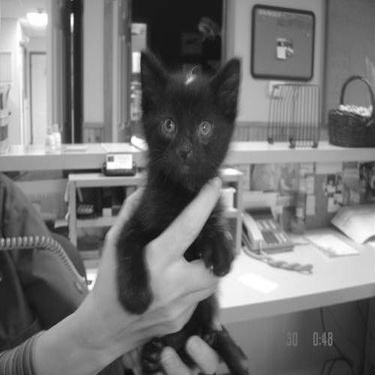cat: (90, 36, 262, 374)
